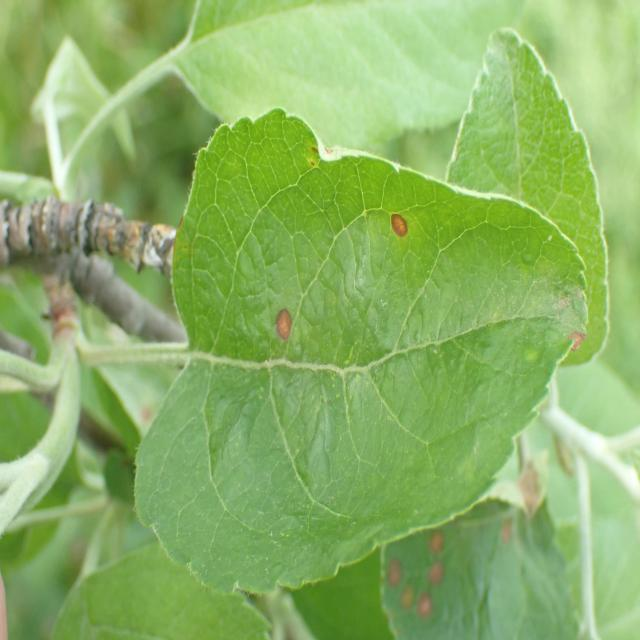Black Rot: (261, 298, 302, 354), (554, 316, 591, 366), (377, 200, 418, 244), (420, 504, 450, 558), (303, 138, 340, 179), (422, 559, 456, 598), (381, 548, 408, 597), (412, 589, 440, 628)
